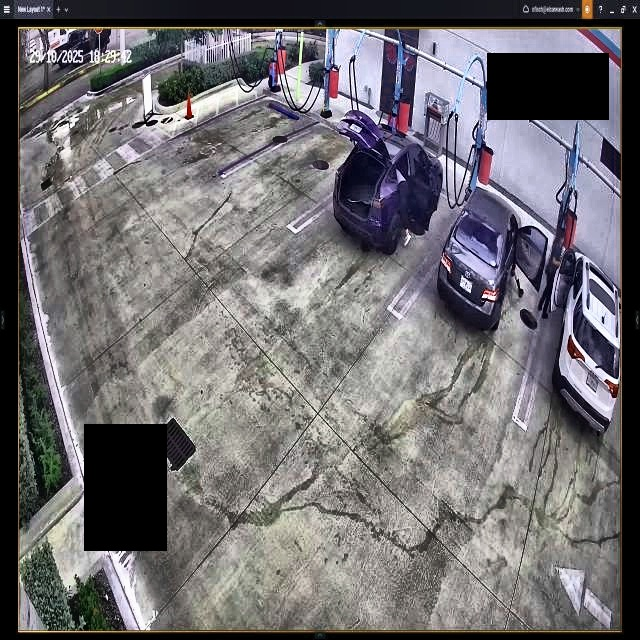Car: (333, 111, 443, 253), (437, 188, 543, 327)
